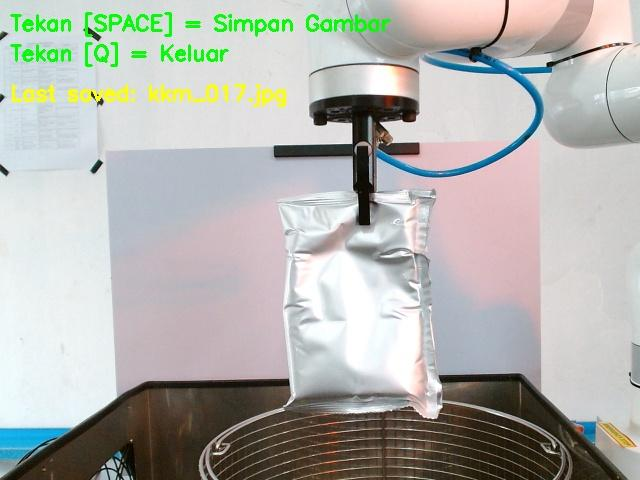retort-pouch: (276, 188, 445, 417)
